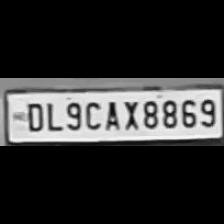6: (178, 96, 196, 128)
8: (139, 97, 159, 129), (160, 96, 178, 128)
9: (197, 95, 217, 127), (61, 98, 80, 130)
A: (102, 98, 120, 130)
C: (82, 98, 102, 130)
D: (22, 99, 44, 130)
L: (44, 99, 61, 130)
X: (120, 97, 140, 129)
